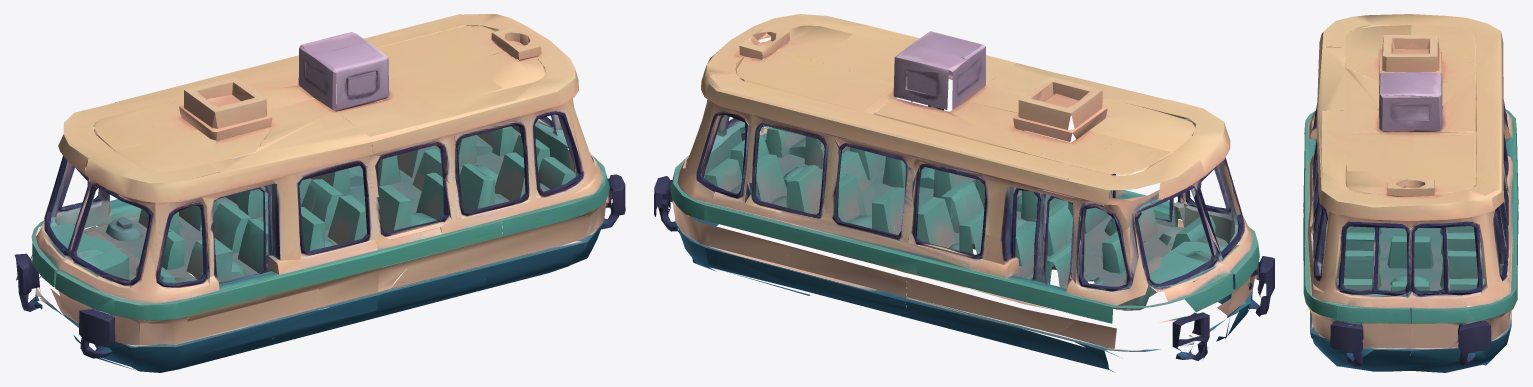
File: M-13_04_waterbus.glb
3 renders of one model, left to right at view 1: azimuth 30°, elevation 25°; view 2: azimuth 150°, elevation 25°; view 3: azimuth 270°, elevation 25°, orthographic. The views are drawn at different scales.
Visible parts, largest first — view 1: M-13_04_waterbus; view 2: M-13_04_waterbus; view 3: M-13_04_waterbus.
Part boxes in pixels (left/top/right/bottom): M-13_04_waterbus: left=14, top=14, right=625, bottom=372; M-13_04_waterbus: left=654, top=14, right=1274, bottom=372; M-13_04_waterbus: left=1303, top=14, right=1518, bottom=372.
Size of the model in its own units: 9.04 by 3.73 by 3.59.
Materials: 1 (1 with a texture image).
